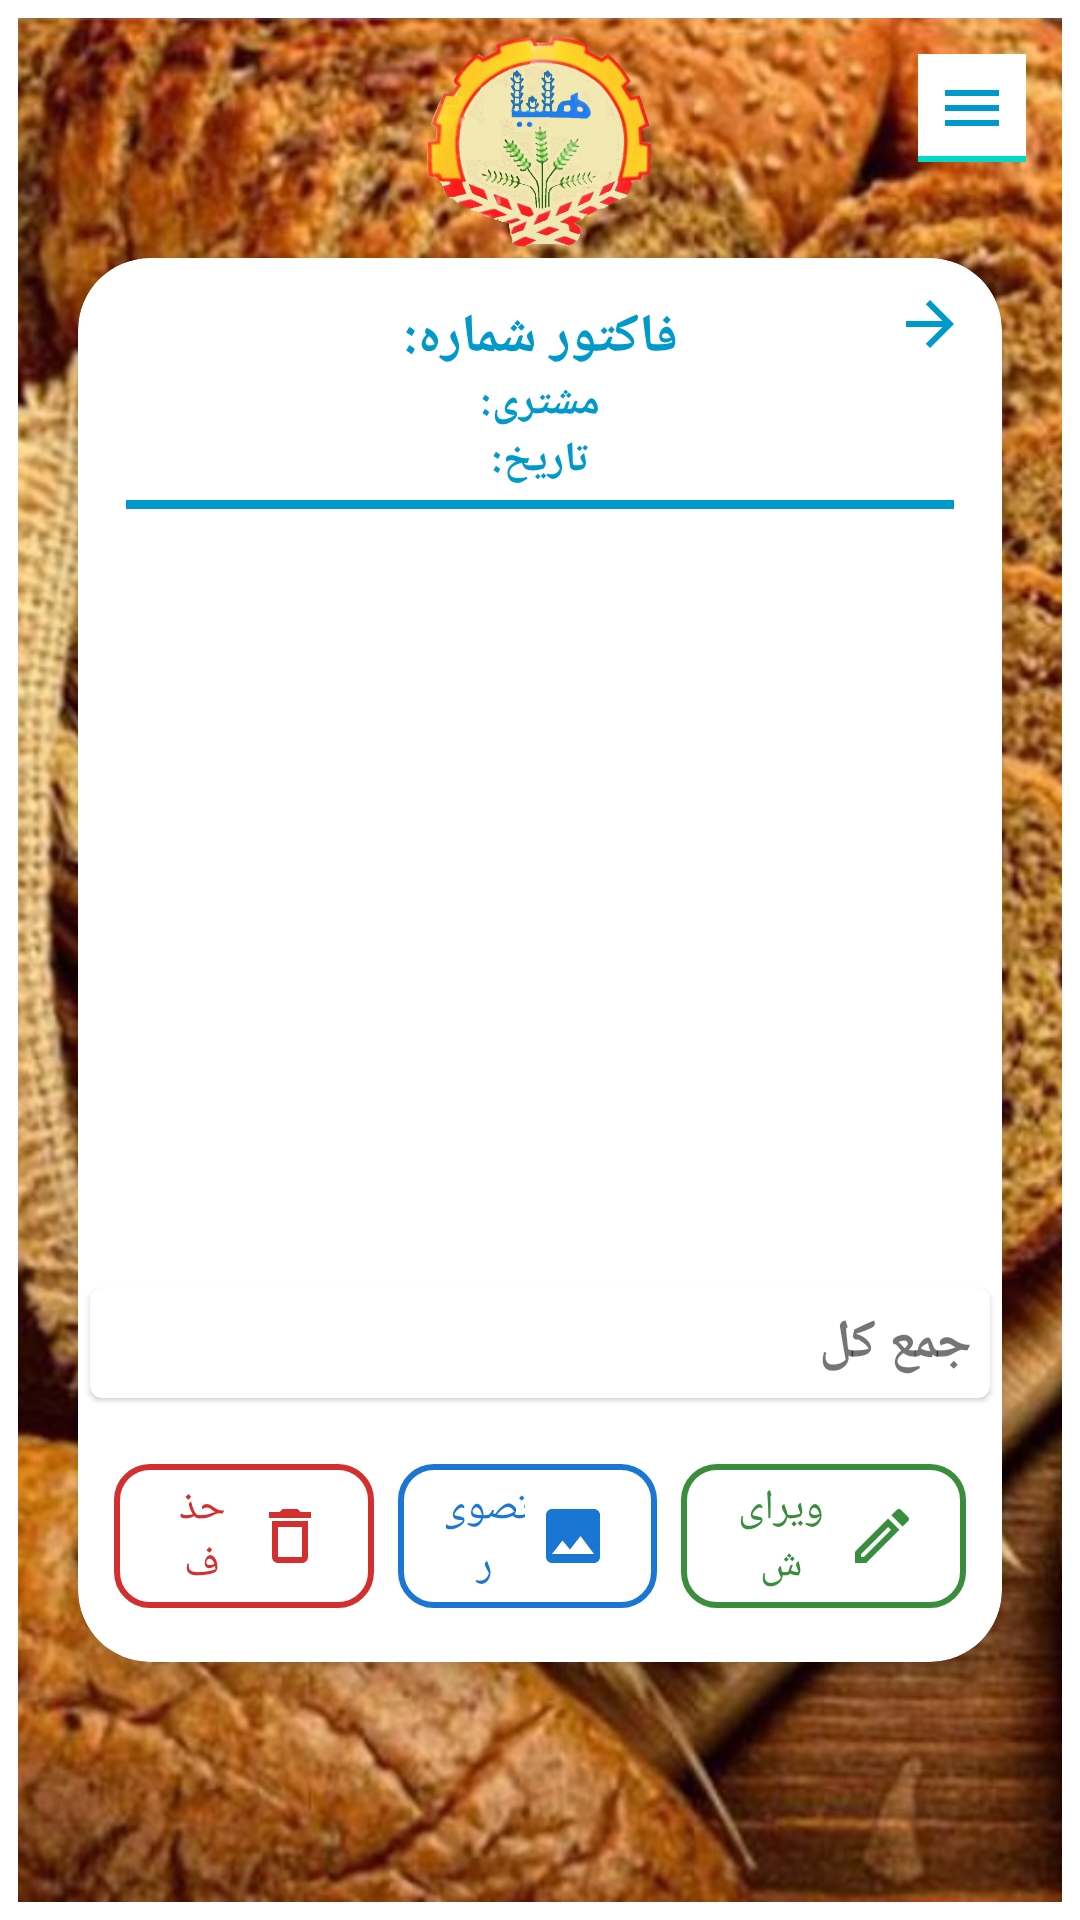

Where to tap for icons on this 1080×1920 app screen, as (x,y):
بازگشت به صفحه ورود: (930,324)
منو: (972,108)
